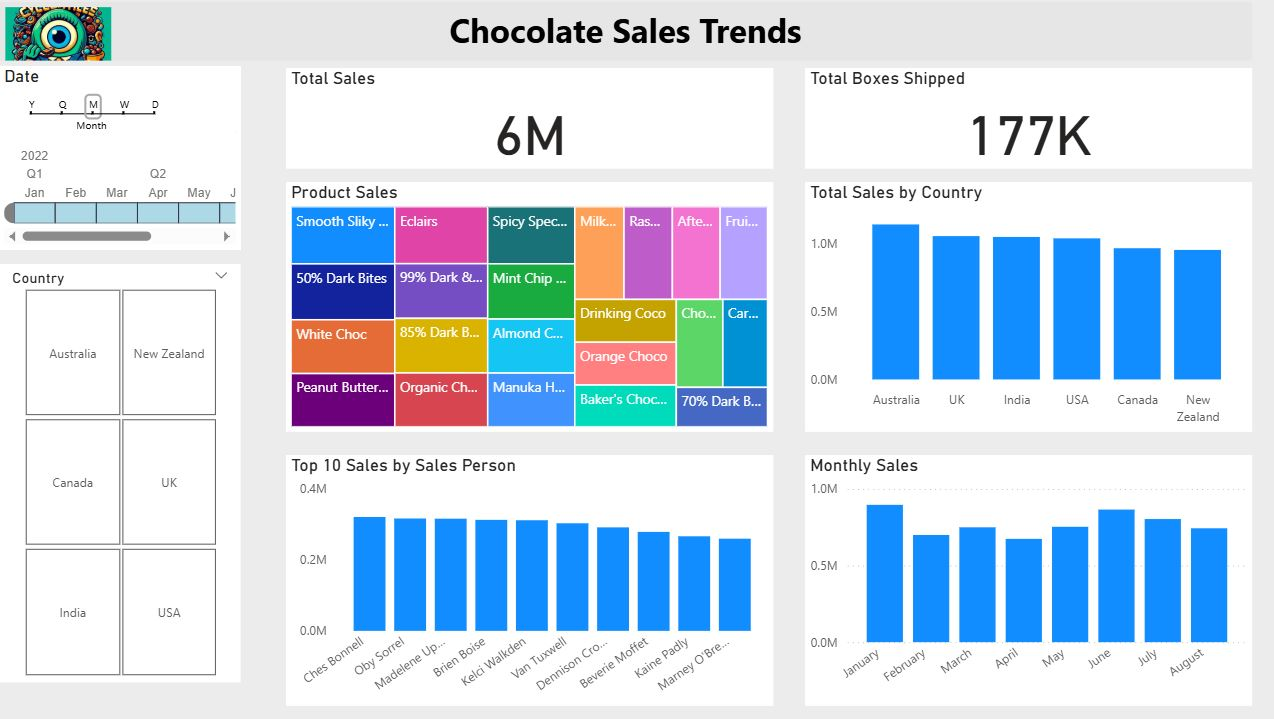

This screenshot's page, from the dashboard's own definition file:
{"tool":"powerbi","page":{"name":"Page 1","canvas":[1280,720],"ordinal":0},"visuals":[{"type":"textbox","box":[36,15.6,1218.7,57.4],"z":0},{"type":"image","box":[29.2,15.6,128.4,62.2],"z":1000},{"type":"columnChart","title":"Top 10 Sales by Sales Person","fields":{"Category":["Chocolate Sales.Sales Person"],"Y":["Chocolate Sales.Amount"]},"box":[315.1,456.2,473.7,244.1],"z":2000},{"type":"lineStackedColumnComboChart","title":"Total Sales & Boxes shipped by Country","fields":{"Category":["Chocolate Sales.Country"],"Y":["Chocolate Sales.Amount"],"Y2":["Chocolate Sales.Boxes Shipped"]},"box":[819.9,190.6,434.8,243.2],"z":3000},{"type":"lineStackedColumnComboChart","title":"Monthly Sales & Boxes shipped ","fields":{"Category":["Chocolate Sales.Date.Variation.Date Hierarchy.Month"],"Y":["Chocolate Sales.Amount"],"Y2":["Chocolate Sales.Boxes Shipped"]},"box":[819.9,456.2,434.8,244.1],"z":4000},{"type":"card","title":"Total Sales","fields":{"Values":["Chocolate Sales.Amount"]},"box":[315.1,79.8,473.7,98.2],"z":5000},{"type":"card","title":"Total Boxes Shipped","fields":{"Values":["Chocolate Sales.Boxes Shipped"]},"box":[819.9,79.8,434.8,98.2],"z":6000},{"type":"treemap","title":"Product Sales","fields":{"Group":["Chocolate Sales.Product"],"Values":["Chocolate Sales.Amount"]},"box":[315.1,190.6,473.7,243.2],"z":7000},{"type":"slicer","fields":{"Values":["Chocolate Sales.Country"]},"box":[36,270.4,235.4,429.9],"z":8000},{"type":"Timeline1447991079100","fields":{"Time":["Chocolate Sales.Date"]},"box":[36,79.8,235.4,178],"z":9000}]}

Visuals, with their boxes in screenshot pixels (x1, y1, x2, y2), scaled from the page's 1280x720 canvas onto the 1274x719 screenshot:
textbox: bbox(36, 16, 1249, 73)
image: bbox(29, 16, 157, 78)
"Top 10 Sales by Sales Person" columnChart: bbox(314, 456, 785, 699)
"Total Sales & Boxes shipped by Country" lineStackedColumnComboChart: bbox(816, 190, 1249, 433)
"Monthly Sales & Boxes shipped " lineStackedColumnComboChart: bbox(816, 456, 1249, 699)
"Total Sales" card: bbox(314, 80, 785, 178)
"Total Boxes Shipped" card: bbox(816, 80, 1249, 178)
"Product Sales" treemap: bbox(314, 190, 785, 433)
slicer - Chocolate Sales.Country: bbox(36, 270, 270, 699)
Timeline1447991079100 - Chocolate Sales.Date: bbox(36, 80, 270, 257)
